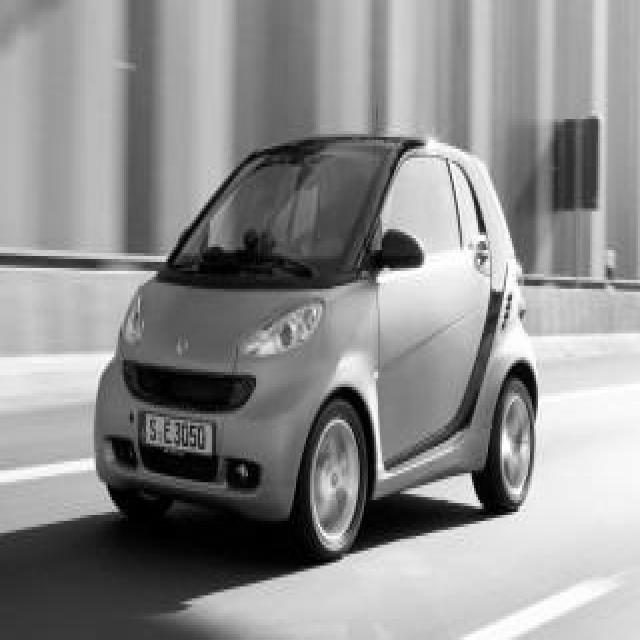Car: (96, 138, 538, 559)
